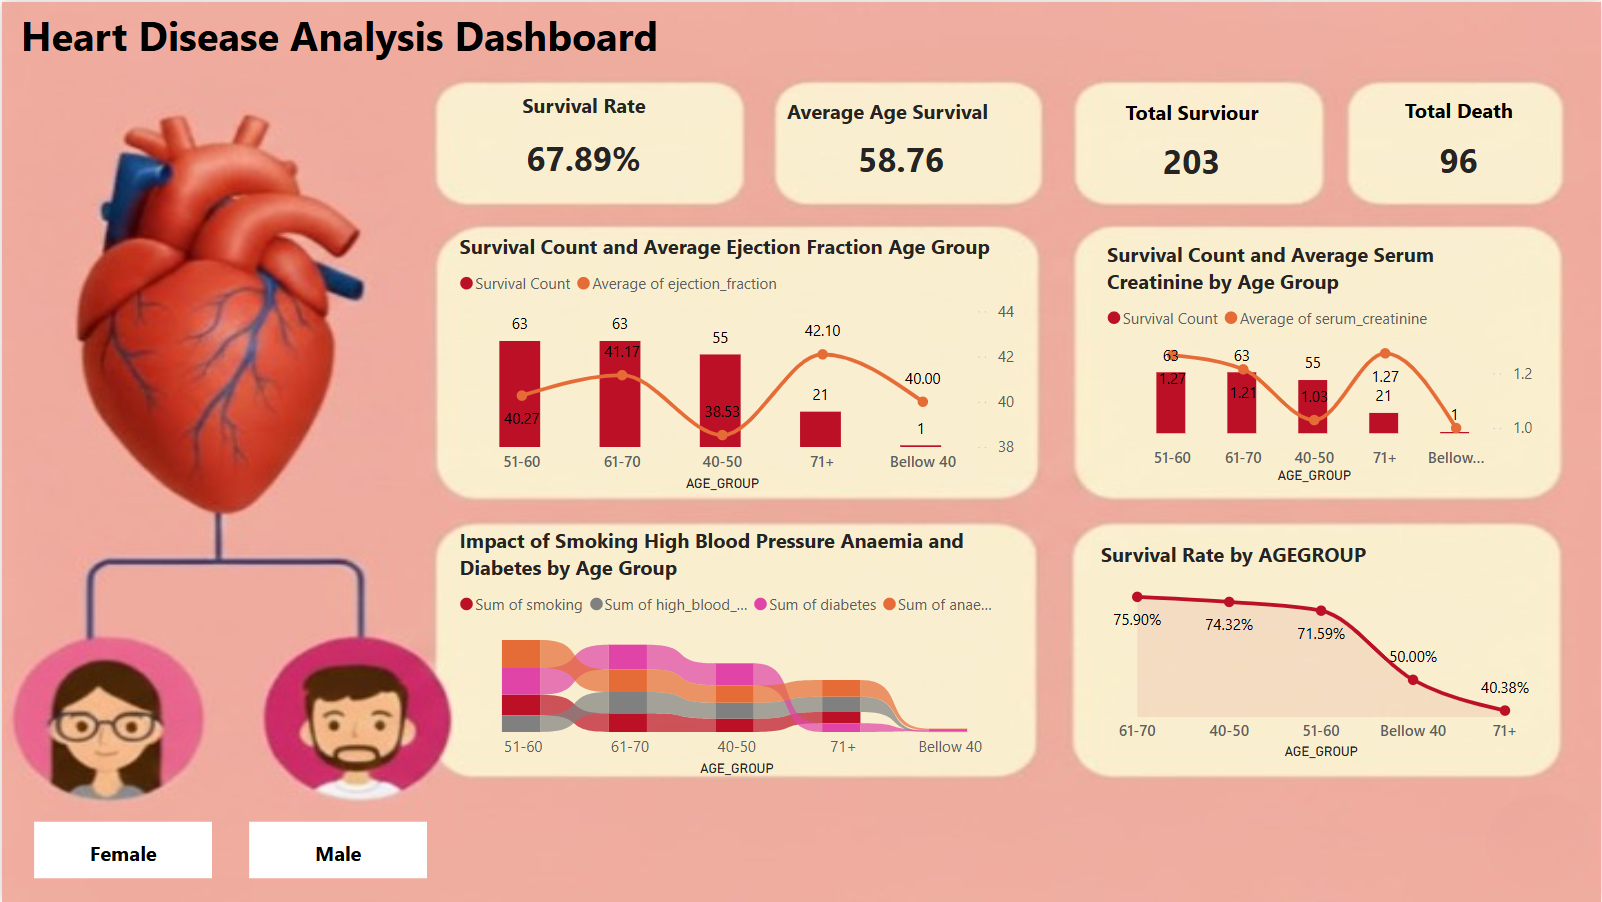

This screenshot's page, from the dashboard's own definition file:
{"tool":"powerbi","page":{"name":"Page 1","canvas":[1280,720],"ordinal":0},"visuals":[{"type":"textbox","box":[10.1,0,559.8,67.4],"z":0},{"type":"card","title":"Survival Rate","fields":{"Values":["heart_failure_clinical_records_dataset.Survival_Rate"]},"box":[361.4,71.4,208.6,87.1],"z":1000},{"type":"card","title":"Average Age Survival","fields":{"Values":["heart_failure_clinical_records_dataset.Average_Age_Survival"]},"box":[622.9,75.7,192.9,80],"z":2000},{"type":"card","title":"Total Surviour","fields":{"Values":["heart_failure_clinical_records_dataset.Total_Surviour"]},"box":[861.4,77.1,181.4,81.4],"z":3000},{"type":"card","title":"Total Death","fields":{"Values":["heart_failure_clinical_records_dataset.Total_Death"]},"box":[1085,75,161.2,82.5],"z":4000},{"type":"lineClusteredColumnComboChart","title":"Survival Count and Average Serum Creatinine by Age Group","fields":{"Category":["heart_failure_clinical_records_dataset.AGE_GROUP"],"Y":["CountNonNull(heart_failure_clinical_records_dataset.DEATH_EVENT)"],"Y2":["Avg(heart_failure_clinical_records_dataset.serum_creatinine)"]},"box":[878.6,190,350,200],"z":5000},{"type":"lineClusteredColumnComboChart","title":"Survival Count and Average Ejection Fraction Age Group","fields":{"Category":["heart_failure_clinical_records_dataset.AGE_GROUP"],"Y":["CountNonNull(heart_failure_clinical_records_dataset.DEATH_EVENT)"],"Y2":["Avg(heart_failure_clinical_records_dataset.ejection_fraction)"]},"box":[361.4,184.3,454.3,211.4],"z":6000},{"type":"lineChart","title":"Survival Rate by AGEGROUP","fields":{"Category":["heart_failure_clinical_records_dataset.AGE_GROUP"],"Y":["heart_failure_clinical_records_dataset.Survival_Rate"]},"box":[874.3,430,362.9,181.4],"z":7000},{"type":"ribbonChart","title":"Impact of Smoking High Blood Pressure Anaemia and Diabetes by Age Group","fields":{"Category":["heart_failure_clinical_records_dataset.AGE_GROUP"],"Y":["Sum(heart_failure_clinical_records_dataset.smoking)","Sum(heart_failure_clinical_records_dataset.high_blood_pressure)","Sum(heart_failure_clinical_records_dataset.diabetes)","Sum(heart_failure_clinical_records_dataset.anaemia)"]},"box":[361.2,418.8,453.8,205],"z":8000},{"type":"advancedSlicerVisual","fields":{"Values":["heart_failure_clinical_records_dataset.Gender"]},"box":[21.4,651.4,324.3,54.3],"z":9000}]}

Visuals, with their boxes in screenshot pixels (x1, y1, x2, y2), scaled from the page's 1280x720 canvas onto the 1602x902 screenshot:
textbox: x1=13 y1=0 x2=713 y2=84
"Survival Rate" card: x1=452 y1=89 x2=713 y2=199
"Average Age Survival" card: x1=780 y1=95 x2=1021 y2=195
"Total Surviour" card: x1=1078 y1=97 x2=1305 y2=199
"Total Death" card: x1=1358 y1=94 x2=1560 y2=197
"Survival Count and Average Serum Creatinine by Age Group" lineClusteredColumnComboChart: x1=1100 y1=238 x2=1538 y2=489
"Survival Count and Average Ejection Fraction Age Group" lineClusteredColumnComboChart: x1=452 y1=231 x2=1021 y2=496
"Survival Rate by AGEGROUP" lineChart: x1=1094 y1=539 x2=1548 y2=766
"Impact of Smoking High Blood Pressure Anaemia and Diabetes by Age Group" ribbonChart: x1=452 y1=525 x2=1020 y2=781
advancedSlicerVisual - heart_failure_clinical_records_dataset.Gender: x1=27 y1=816 x2=433 y2=884
